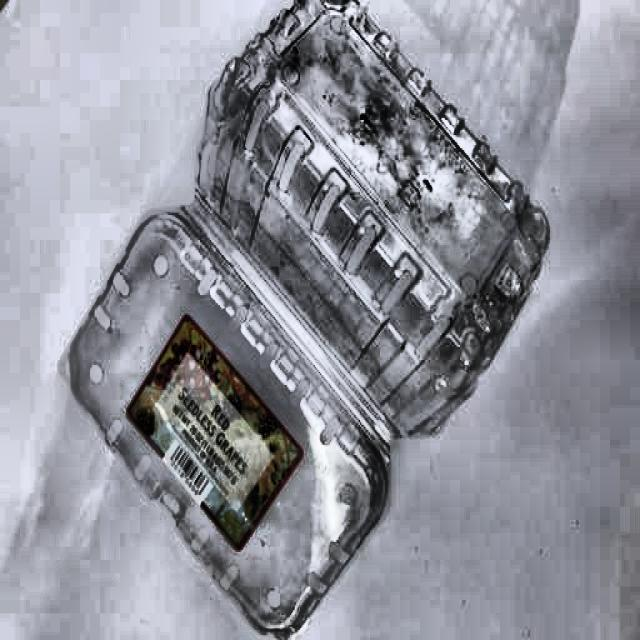plastic: (65, 0, 543, 640)
